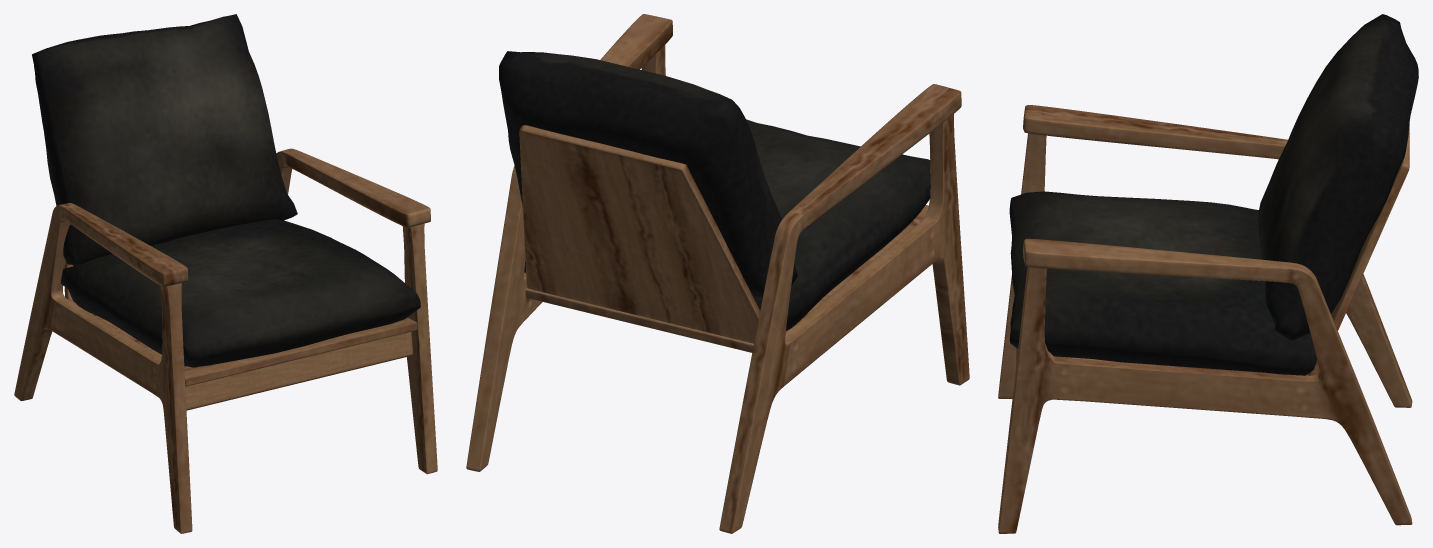
The model's file is modern_arm_chair_01.glb.
3 renders of one model, left to right at view 1: azimuth 30°, elevation 25°; view 2: azimuth 150°, elevation 25°; view 3: azimuth 270°, elevation 25°, orthographic. The views are drawn at different scales.
Visible parts, largest first — view 1: modern_arm_chair_01_pillow, modern_arm_chair_01_legs; view 2: modern_arm_chair_01_legs, modern_arm_chair_01_pillow; view 3: modern_arm_chair_01_pillow, modern_arm_chair_01_legs.
Part boxes in pixels (x1=…): modern_arm_chair_01_pillow: x1=32, y1=14, x2=420, y2=367; modern_arm_chair_01_legs: x1=14, y1=148, x2=437, y2=533; modern_arm_chair_01_legs: x1=466, y1=14, x2=969, y2=533; modern_arm_chair_01_pillow: x1=499, y1=51, x2=930, y2=330; modern_arm_chair_01_pillow: x1=1009, y1=14, x2=1418, y2=375; modern_arm_chair_01_legs: x1=998, y1=105, x2=1412, y2=533.
Size of the model in its own units: 0.8203 by 1.02 by 0.9866.
2 materials, 2 textured.
